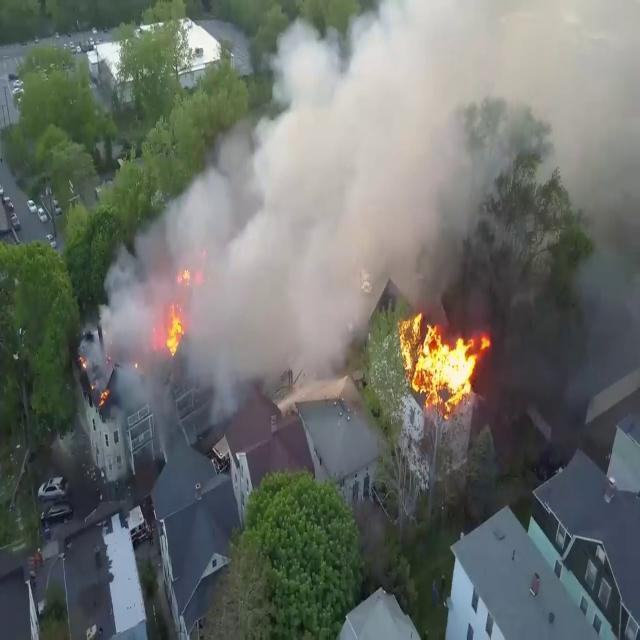Fire: (394, 299, 490, 414), (164, 290, 189, 360)
Smoke: (111, 1, 554, 417)
